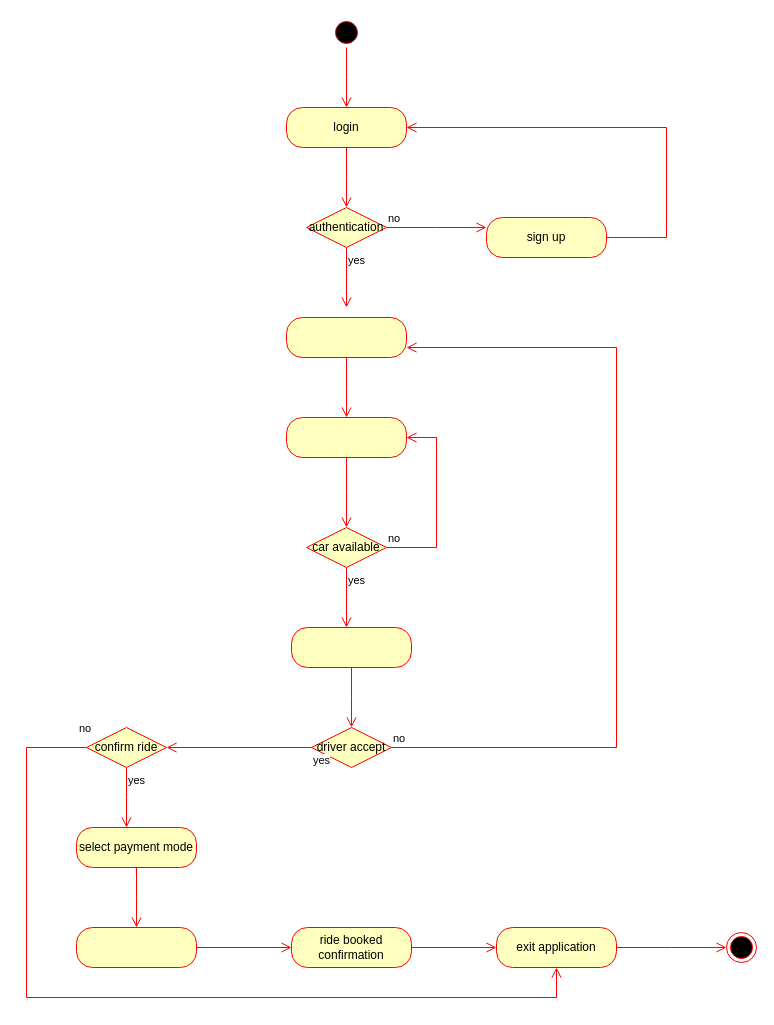
Image size: 774x1025. Some labels were removed from this diagram. Each missing label, with the box of its shape:
confirm payment: (76, 926, 196, 968)
enter destination: (286, 316, 406, 358)
search cars: (286, 416, 406, 458)
send request to available drivers: (290, 626, 412, 668)
